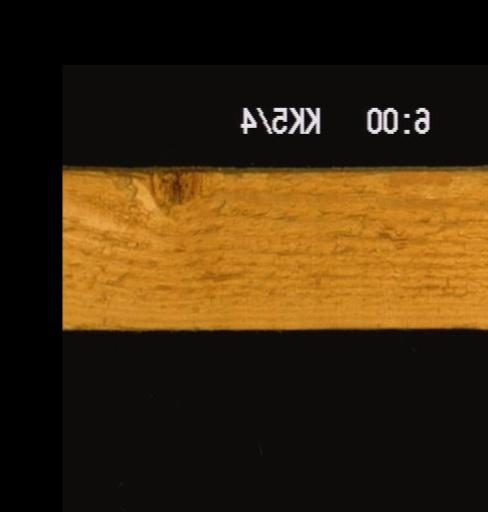edge_knot: (136, 167, 226, 214)
